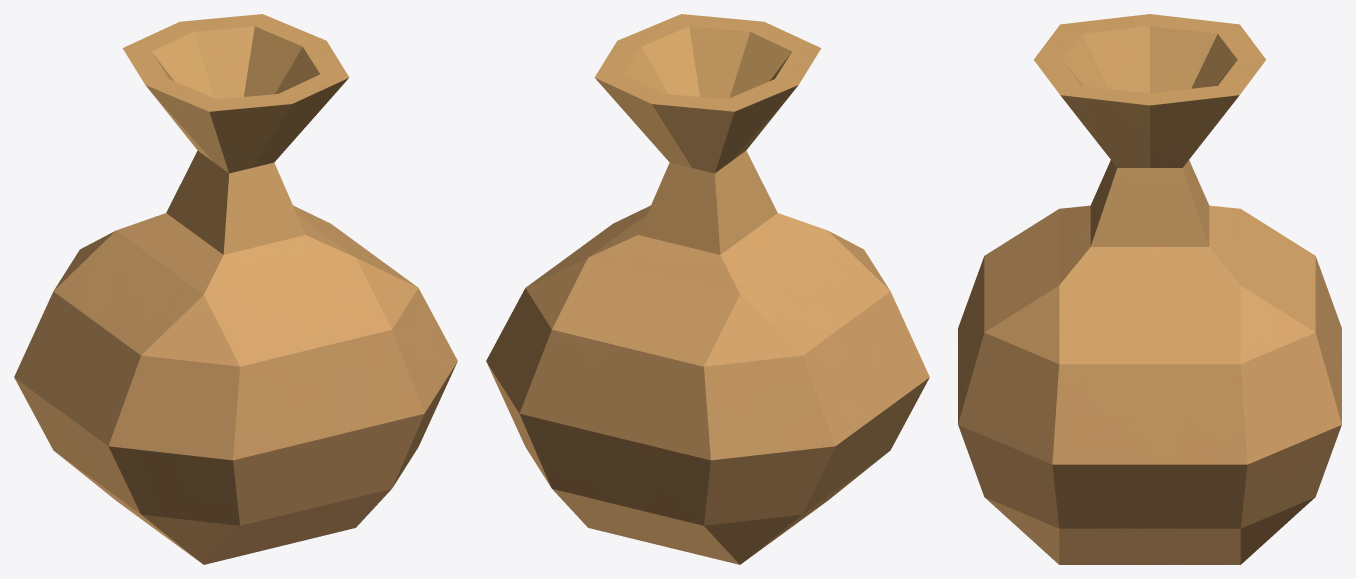
File: Pottery3.fbx
The picture shows the model from 3 angles, left to right: view 1: azimuth 30°, elevation 25°; view 2: azimuth 150°, elevation 25°; view 3: azimuth 270°, elevation 25°; orthographic projection. The views are drawn at different scales.
Visible parts, largest first — view 1: 陶瓷.003; view 2: 陶瓷.003; view 3: 陶瓷.003.
Part boxes in pixels (x1,y1,x2,y2): 陶瓷.003: (14,14,457,564); 陶瓷.003: (486,14,929,564); 陶瓷.003: (958,14,1341,564).
Size of the model in its own units: 6.29 by 7.76 by 5.78.
